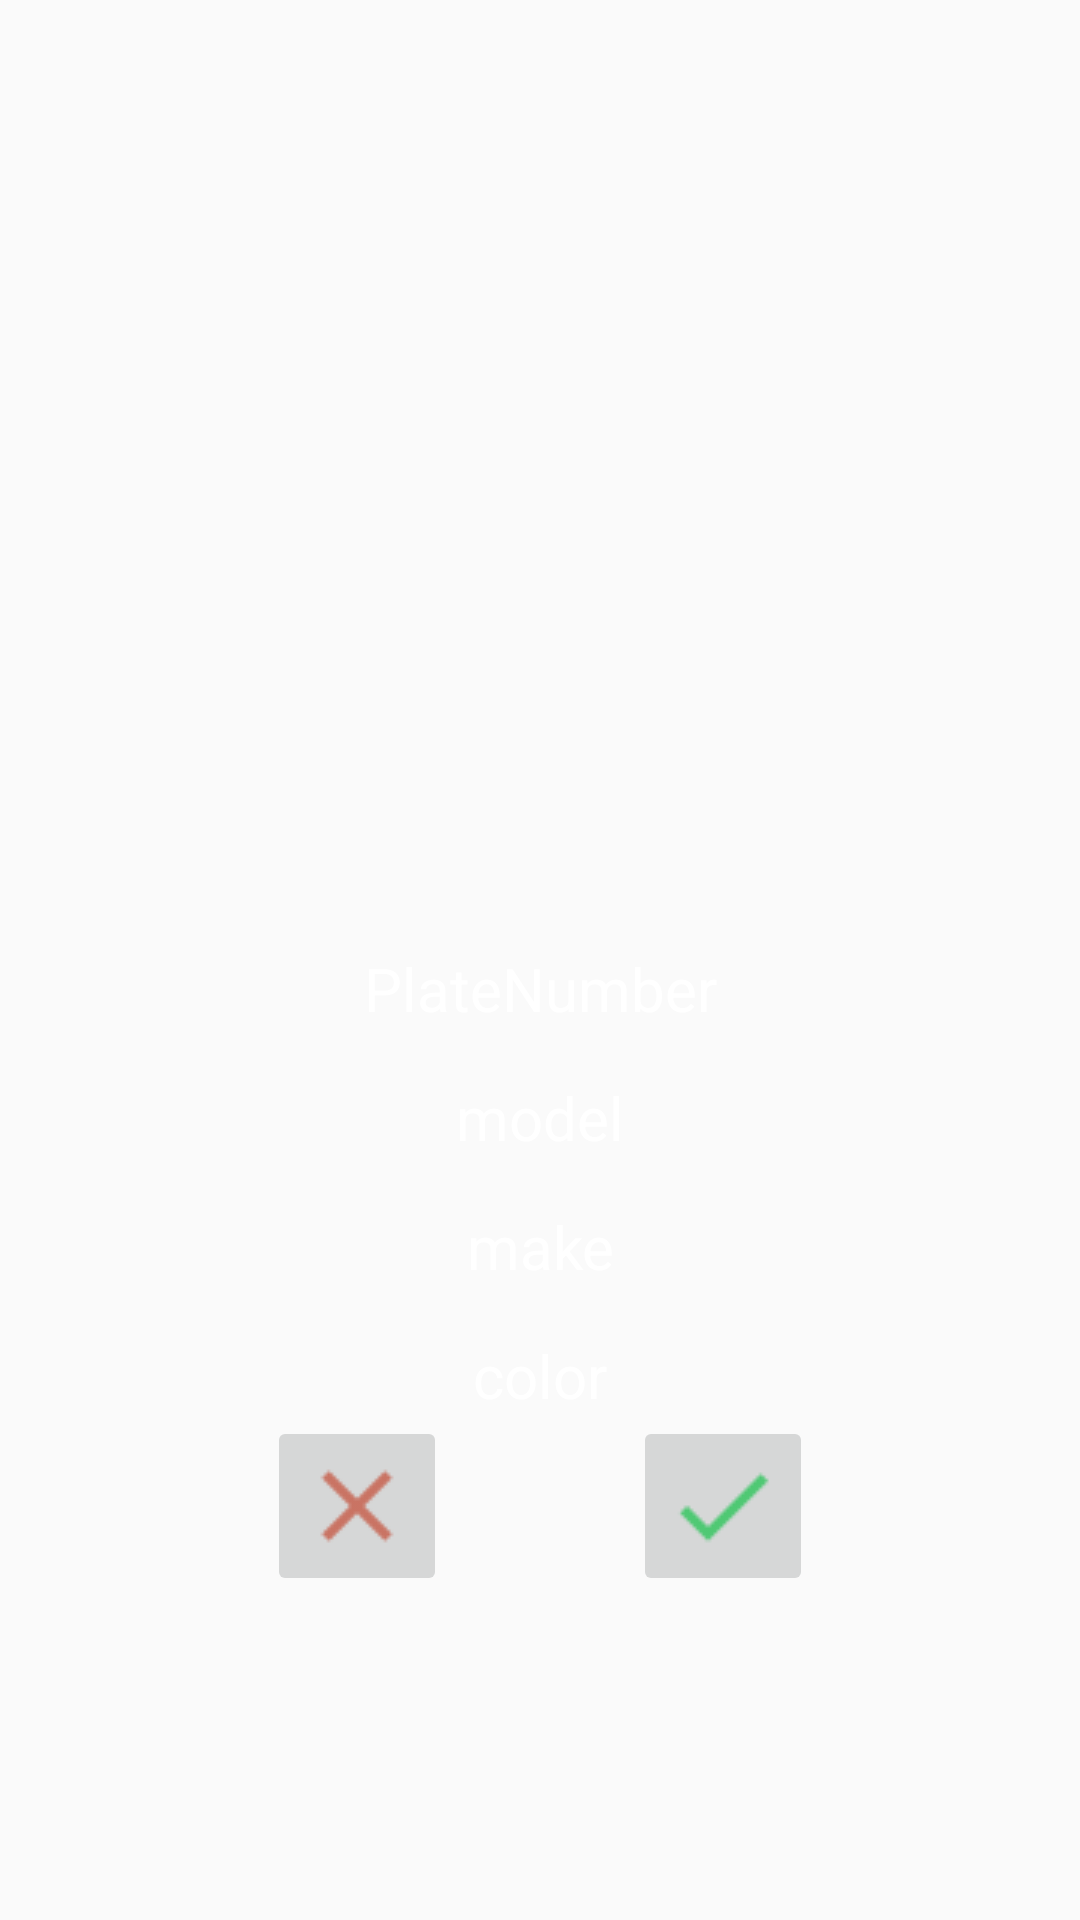

Locate icon controls on the screen. Image size 1080×1920, boxes as (x1, y1, x2, y2).
yes: (645, 1434, 801, 1578)
